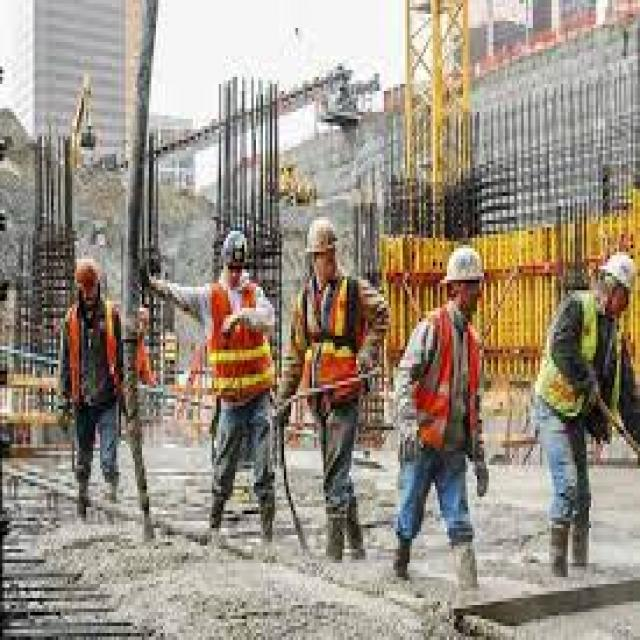Reflective-Jacket: (526, 287, 628, 437), (400, 304, 491, 465), (291, 269, 379, 427), (190, 273, 282, 423), (61, 297, 132, 420)
Safety-Helmet: (436, 234, 494, 301), (591, 242, 640, 304), (296, 210, 346, 266), (68, 248, 110, 304), (214, 220, 256, 276)
